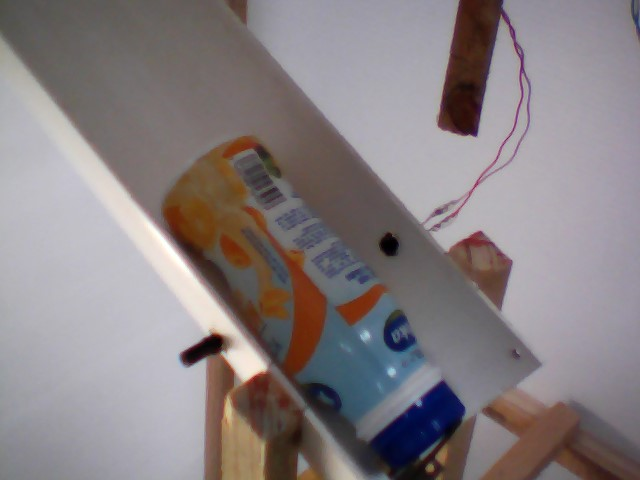plastico: (154, 128, 482, 475)
